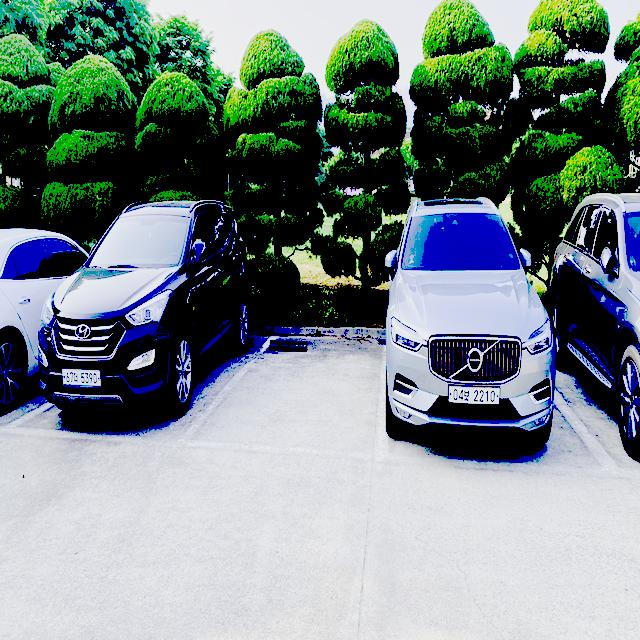empty: (221, 330, 380, 454)
occupied: (39, 198, 248, 442), (383, 200, 558, 456), (554, 208, 636, 461), (1, 222, 81, 434)
